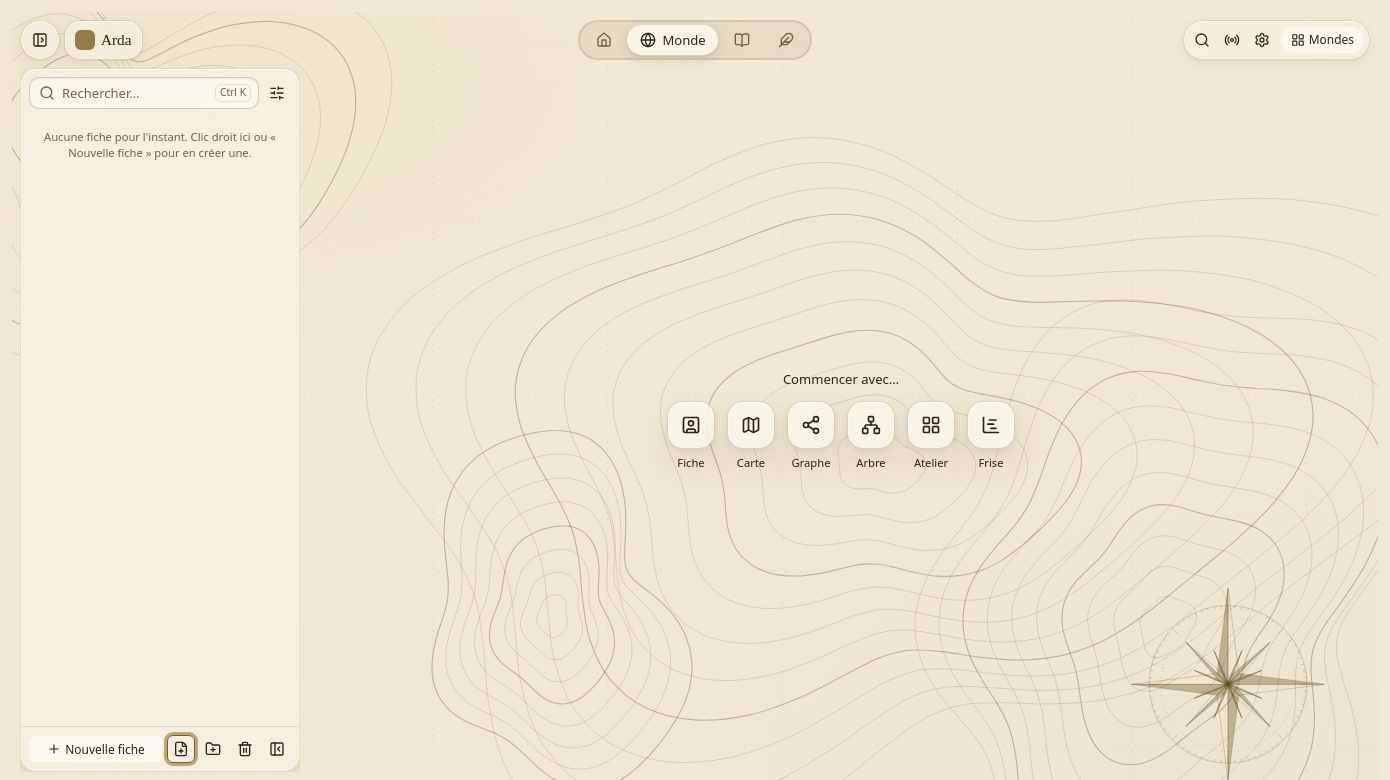
Test: "New graph" in the sidebar creates a graph showing every card, and opens it
Press Enter in the button named "Nouveau document (carte, graphe, arbre, atelier, frise…)", box x1=167 y1=735 x2=195 y2=763
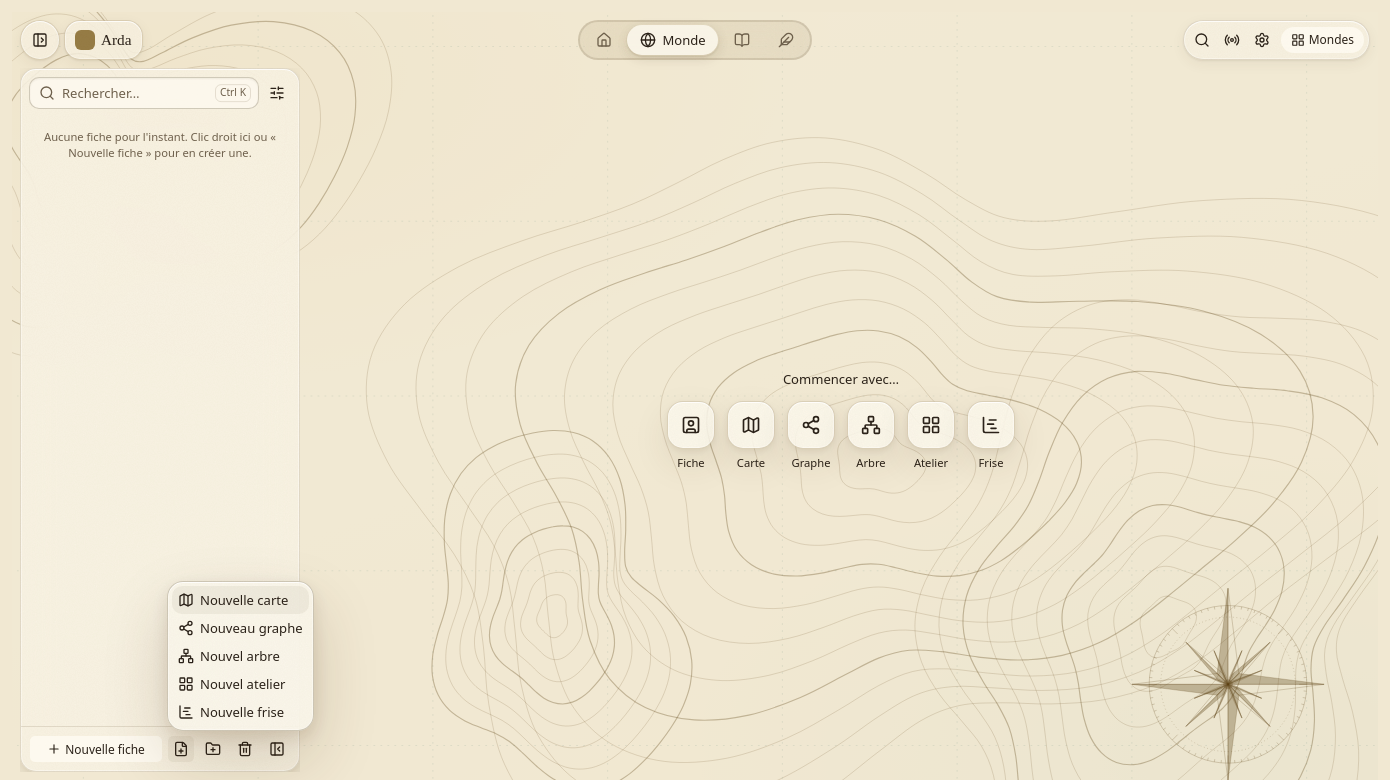
Click the menu item "Nouveau graphe" at [240, 628], box x1=172 y1=614 x2=309 y2=642
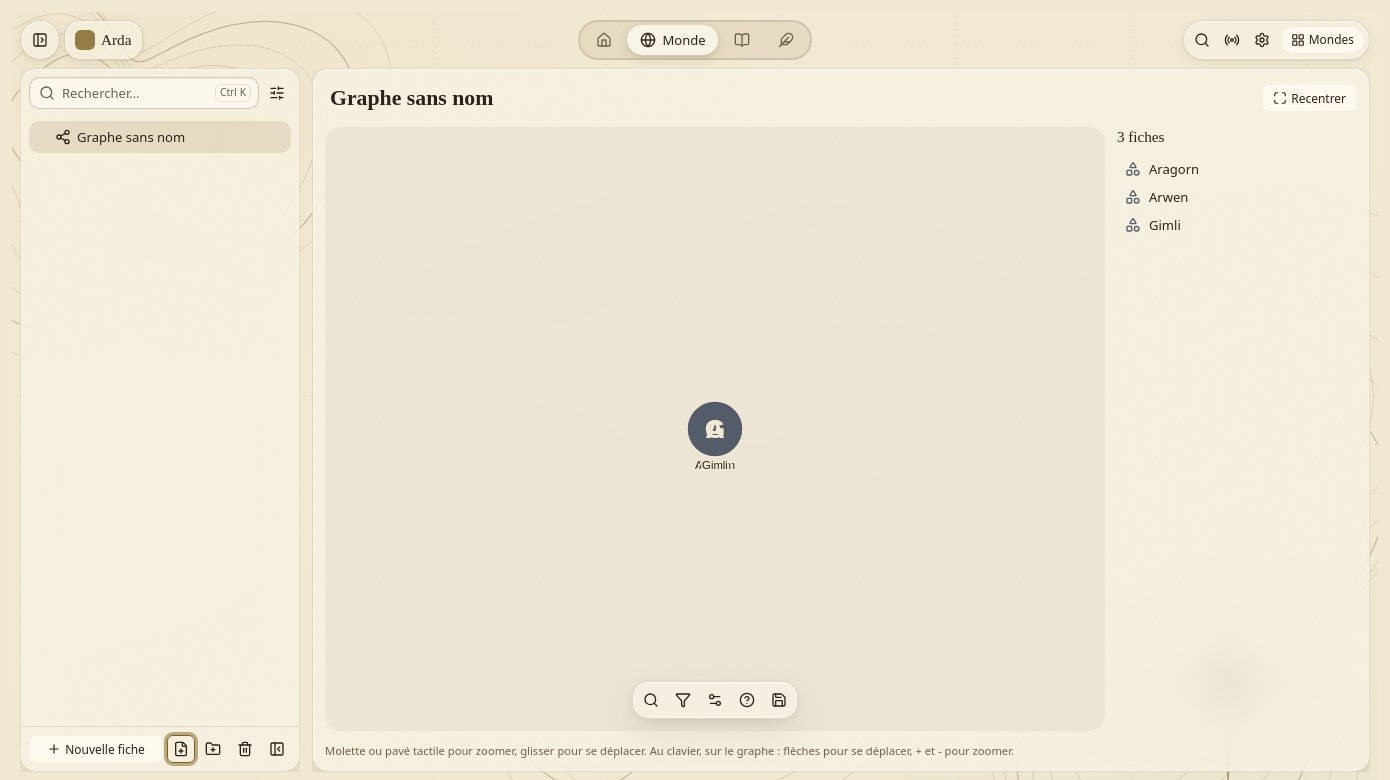
Now the picture named "Graphe Graphe sans nom : 3 fiches, 1 liens" is shown, box x1=325 y1=127 x2=1105 y2=731
Now the list item "Graphe sans nom" is shown, box x1=29 y1=121 x2=291 y2=153
Now the field named "Nom du graphe" holds "Graphe sans nom", box x1=325 y1=81 x2=1254 y2=115
